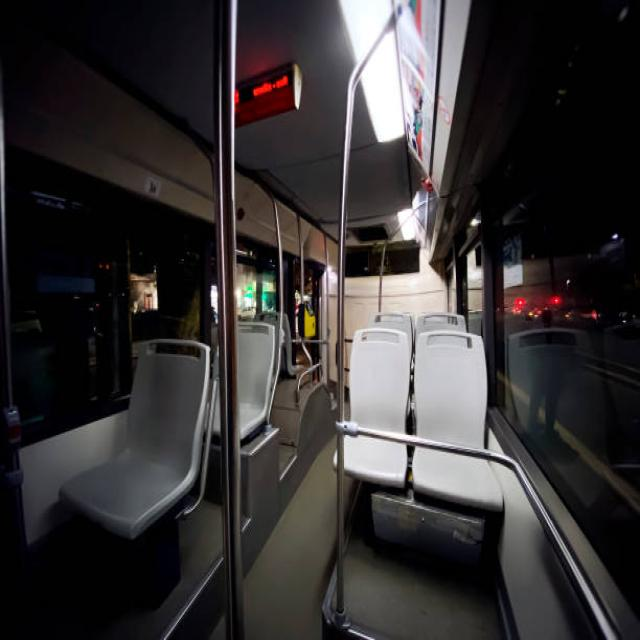empty-seat-frontal: (57, 338, 212, 540), (414, 326, 506, 514), (332, 328, 410, 511)
